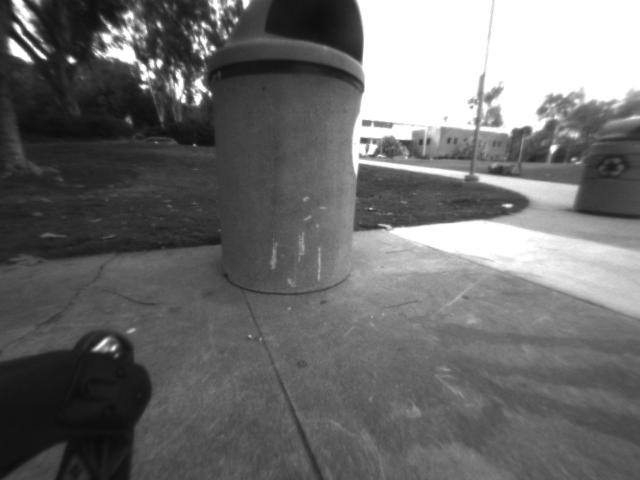trashcan: (198, 1, 377, 304)
